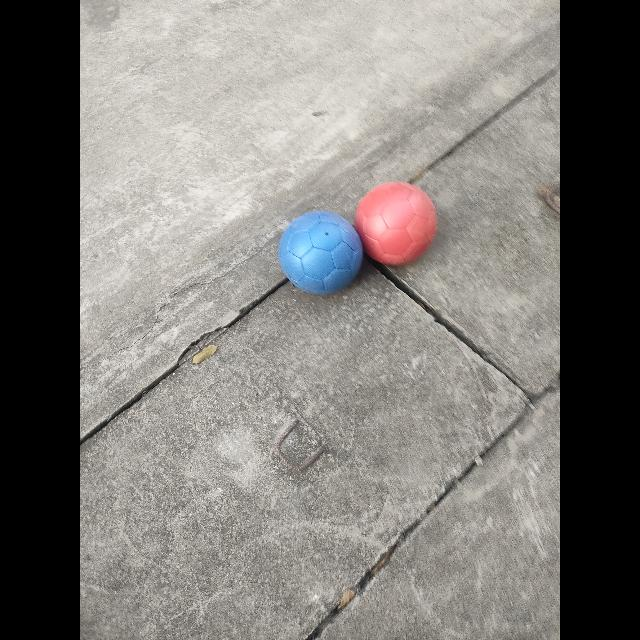B: (278, 212, 364, 294)
R: (354, 182, 436, 266)
